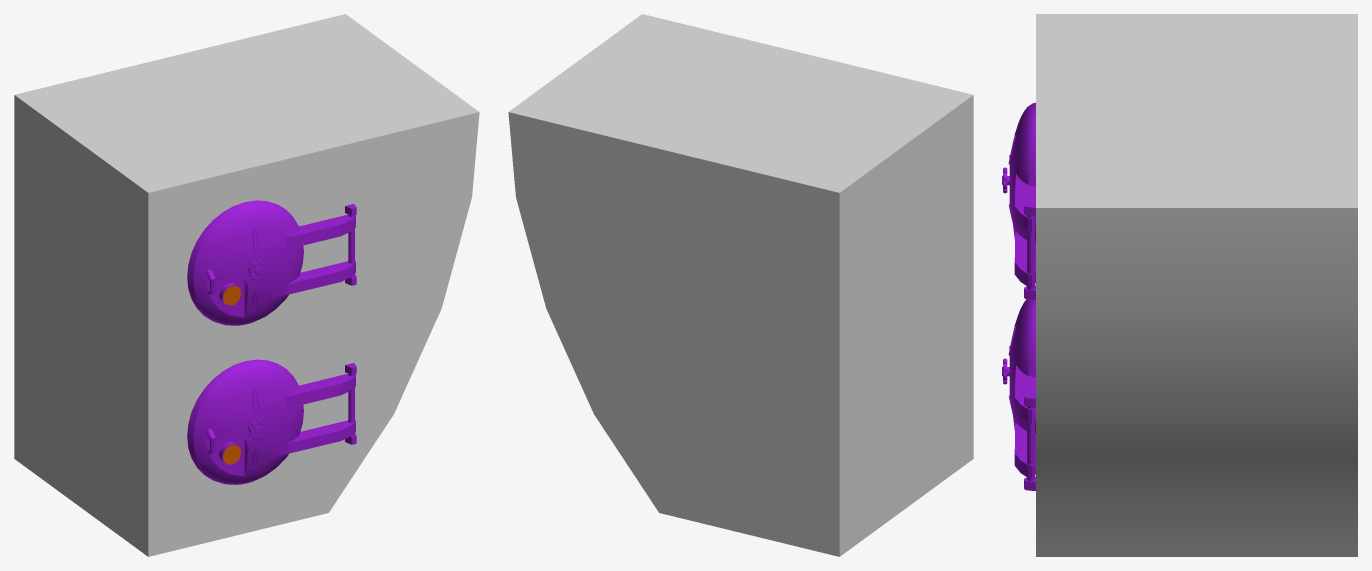
The model's file is torpedometac.fbx.
3 renders of one model, left to right at view 1: azimuth 30°, elevation 25°; view 2: azimuth 150°, elevation 25°; view 3: azimuth 270°, elevation 25°, orthographic. The views are drawn at different scales.
Visible parts, largest first — view 1: Cylinder.002; view 2: Cylinder.002; view 3: Cylinder.002.
Boxes of the visible parts, x1,y1,x2,y2 form: Cylinder.002: [14, 14, 479, 556]; Cylinder.002: [508, 14, 973, 556]; Cylinder.002: [1002, 14, 1357, 556].
Bounding box in the file's own units: 271 × 284 × 210.
